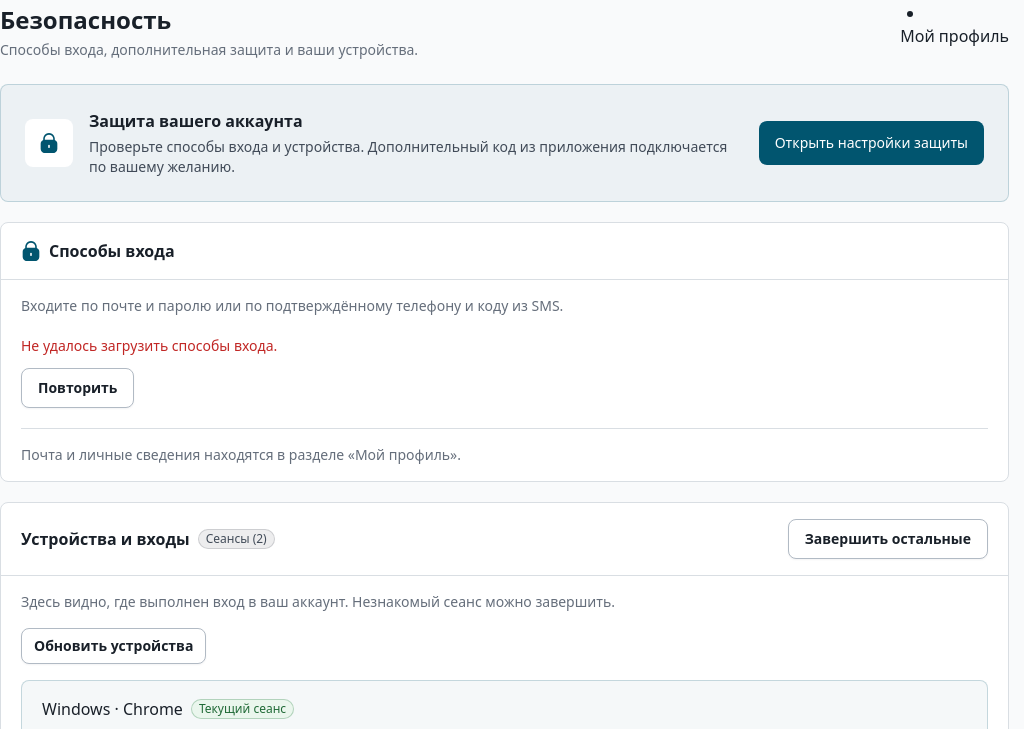
Test: SecurityPage › revokes every session except the current one
Click the button "Завершить остальные" at (888, 539), box 788,519 -> 988,559
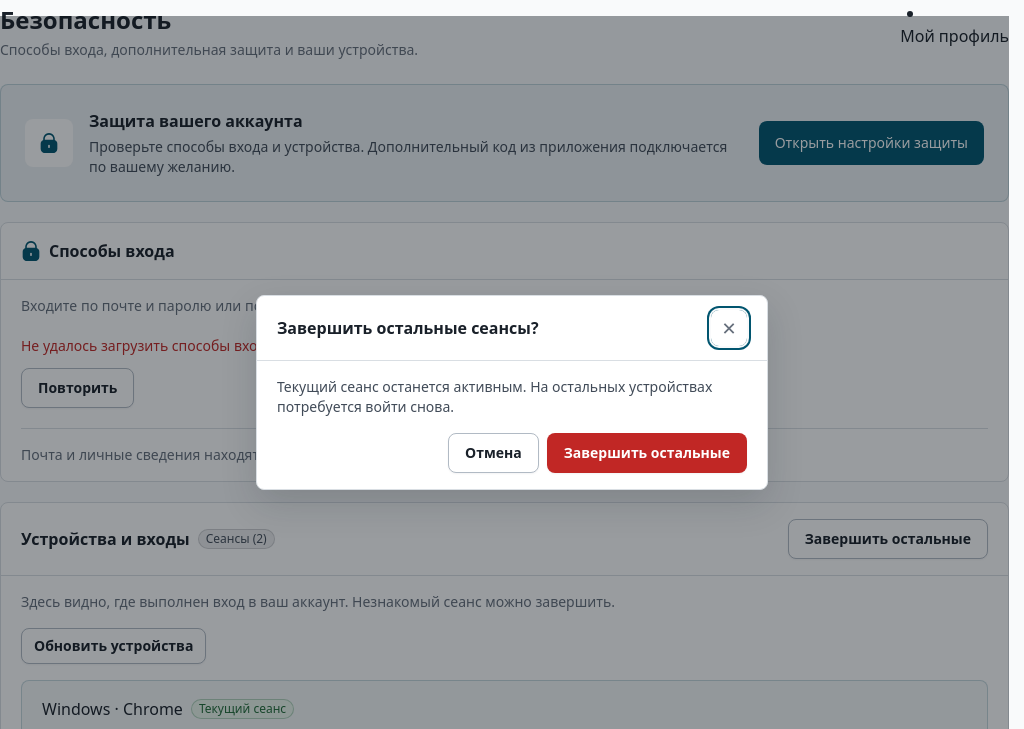
Click the button "Отмена" at (493, 452), box 448,432 -> 539,472
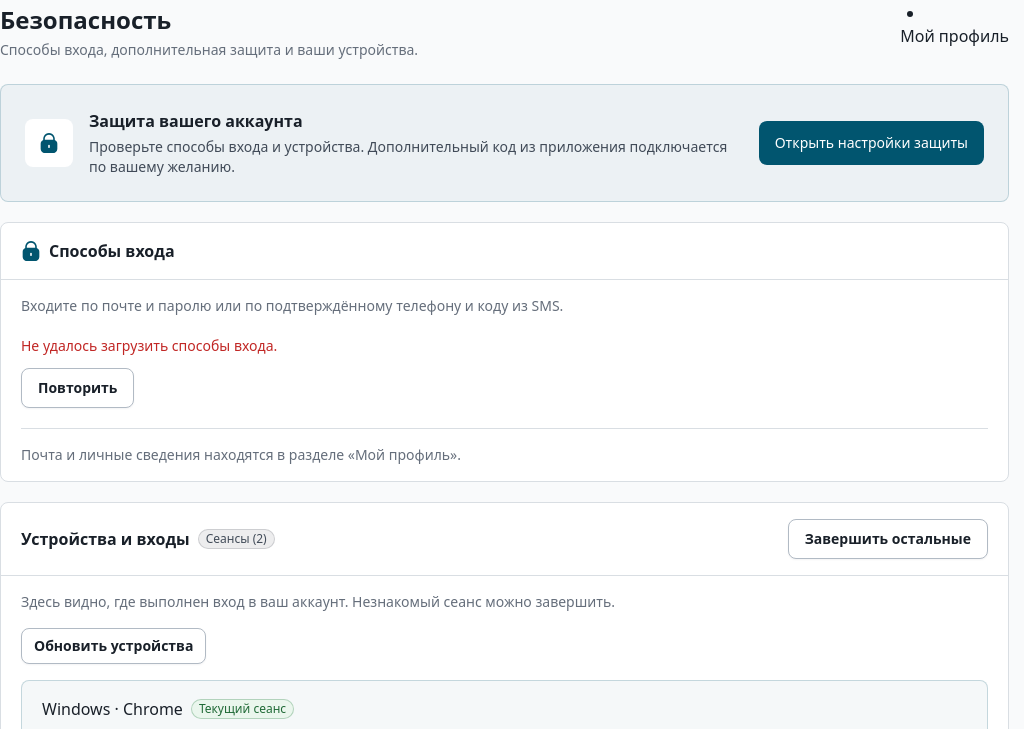
Expected: the dialog is gone
Click the button "Завершить остальные" at (888, 539), box 788,519 -> 988,559
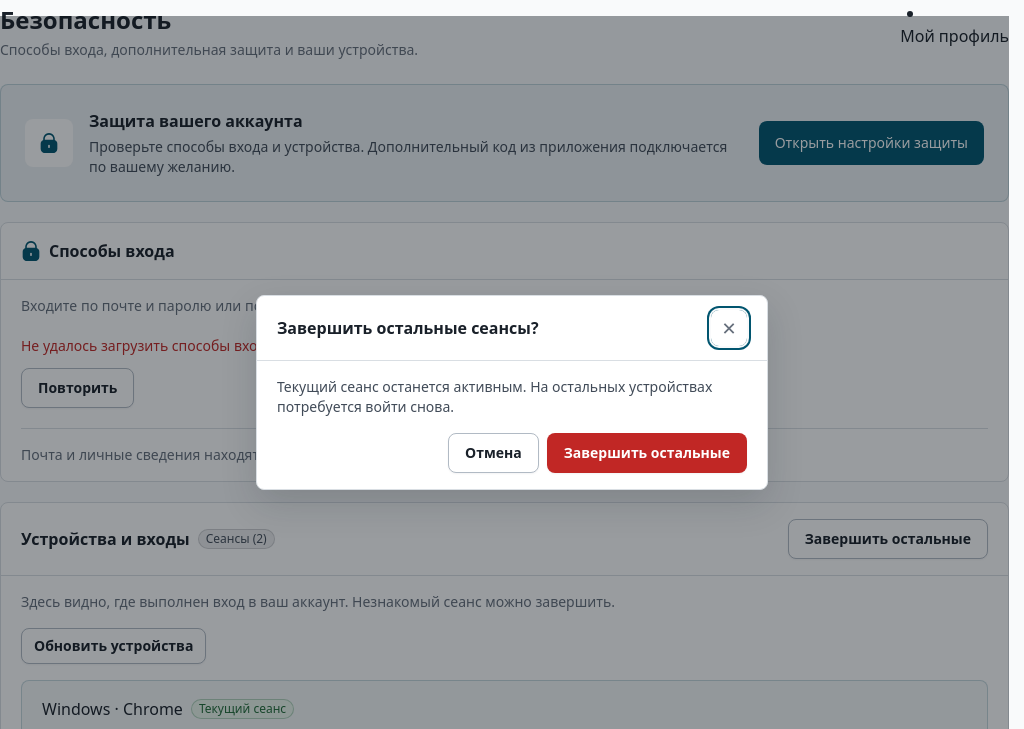
Click the button "Завершить остальные" at (647, 452), box 547,432 -> 747,472
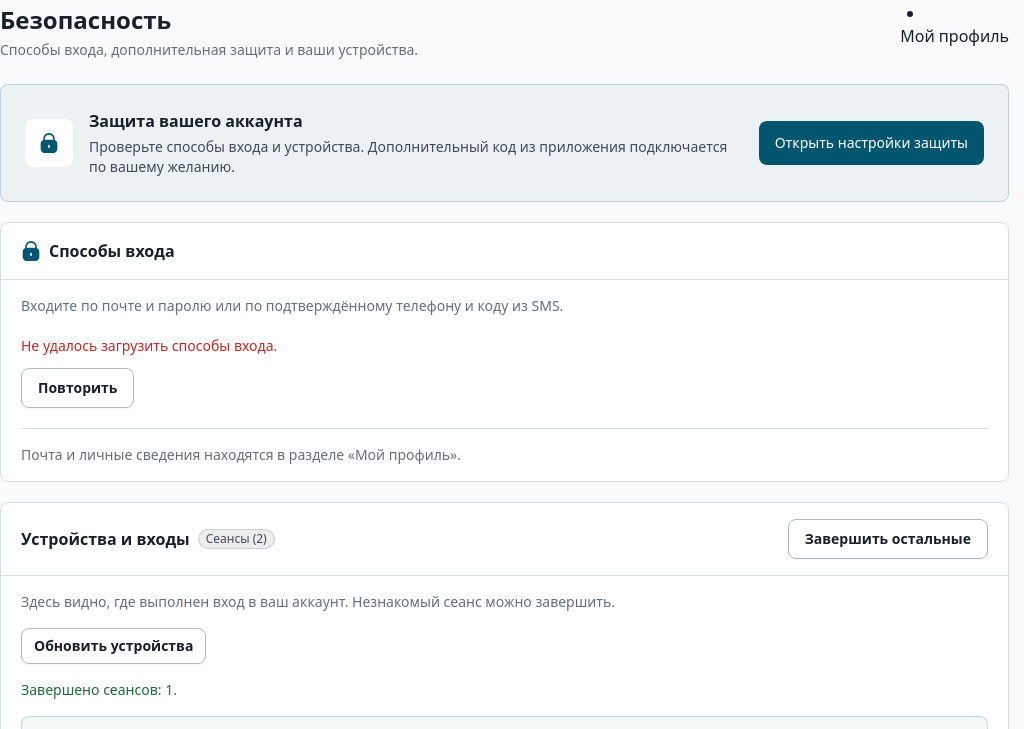
Expected: the text "Завершено сеансов: 1." is shown, 21,680 -> 177,699
